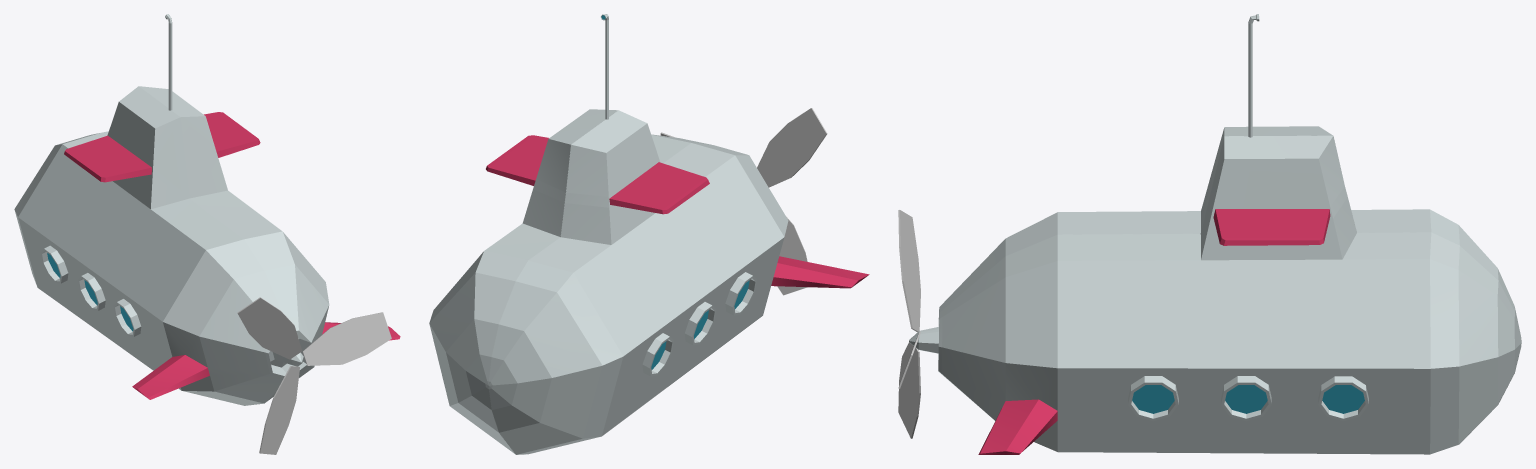
Rendered from Submarine1.obj.
3 views of the same model, side by side, from view 1: azimuth 30°, elevation 25°; view 2: azimuth 150°, elevation 25°; view 3: azimuth 270°, elevation 25° (orthographic). The views are drawn at different scales.
Parts seen in each view (by area): view 1: Body, Cube:2, Cube:1, Cube:0, Cylinder.1, Cylinder.2, Cylinder.3, Perescope; view 2: Body, Cube:1, Cylinder.2, Cylinder.1, Cylinder.3, Cube:0, Perescope; view 3: Body, Cube:1, Cylinder.1, Cylinder.2, Cylinder.3, Cube:0, Perescope.
Part boxes in pixels (x1=…): Body: x1=14, y1=86, x2=400, y2=405; Cube:2: x1=302, y1=312, x2=391, y2=365; Cube:1: x1=237, y1=297, x2=301, y2=359; Cube:0: x1=259, y1=366, x2=299, y2=454; Cylinder.1: x1=113, y1=299, x2=141, y2=336; Cylinder.2: x1=78, y1=273, x2=105, y2=310; Cylinder.3: x1=40, y1=245, x2=68, y2=283; Perescope: x1=165, y1=14, x2=172, y2=110; Body: x1=429, y1=109, x2=869, y2=454; Cube:1: x1=757, y1=108, x2=827, y2=187; Cylinder.2: x1=684, y1=302, x2=716, y2=345; Cylinder.1: x1=725, y1=272, x2=756, y2=315; Cylinder.3: x1=642, y1=333, x2=673, y2=376; Cube:0: x1=777, y1=216, x2=807, y2=295; Perescope: x1=601, y1=14, x2=608, y2=119; Body: x1=909, y1=126, x2=1521, y2=454; Cube:1: x1=898, y1=210, x2=920, y2=332; Cylinder.1: x1=1128, y1=376, x2=1178, y2=421; Cylinder.2: x1=1221, y1=376, x2=1271, y2=421; Cylinder.3: x1=1318, y1=376, x2=1368, y2=421; Cube:0: x1=898, y1=337, x2=920, y2=438; Perescope: x1=1248, y1=14, x2=1259, y2=137.
Bounding box in the file's own units: 148 × 188 × 242.
